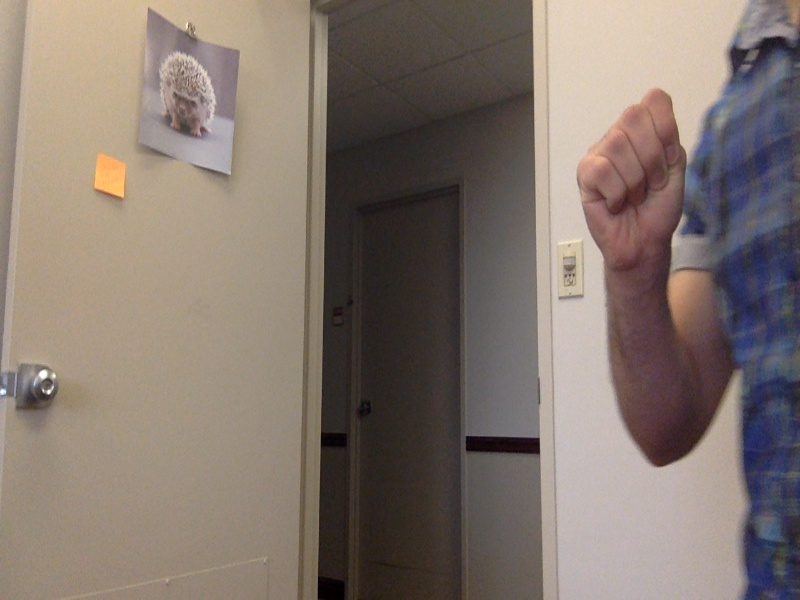0-hand: (576, 84, 689, 265)
